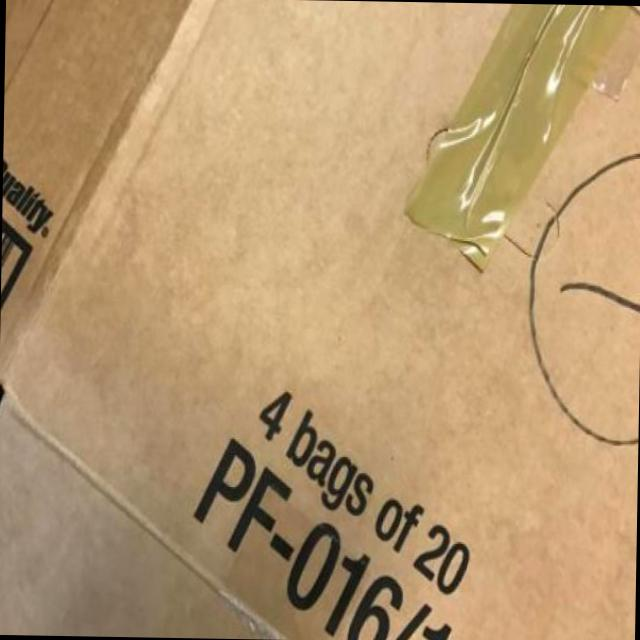cardboard paper: (0, 0, 638, 640)
